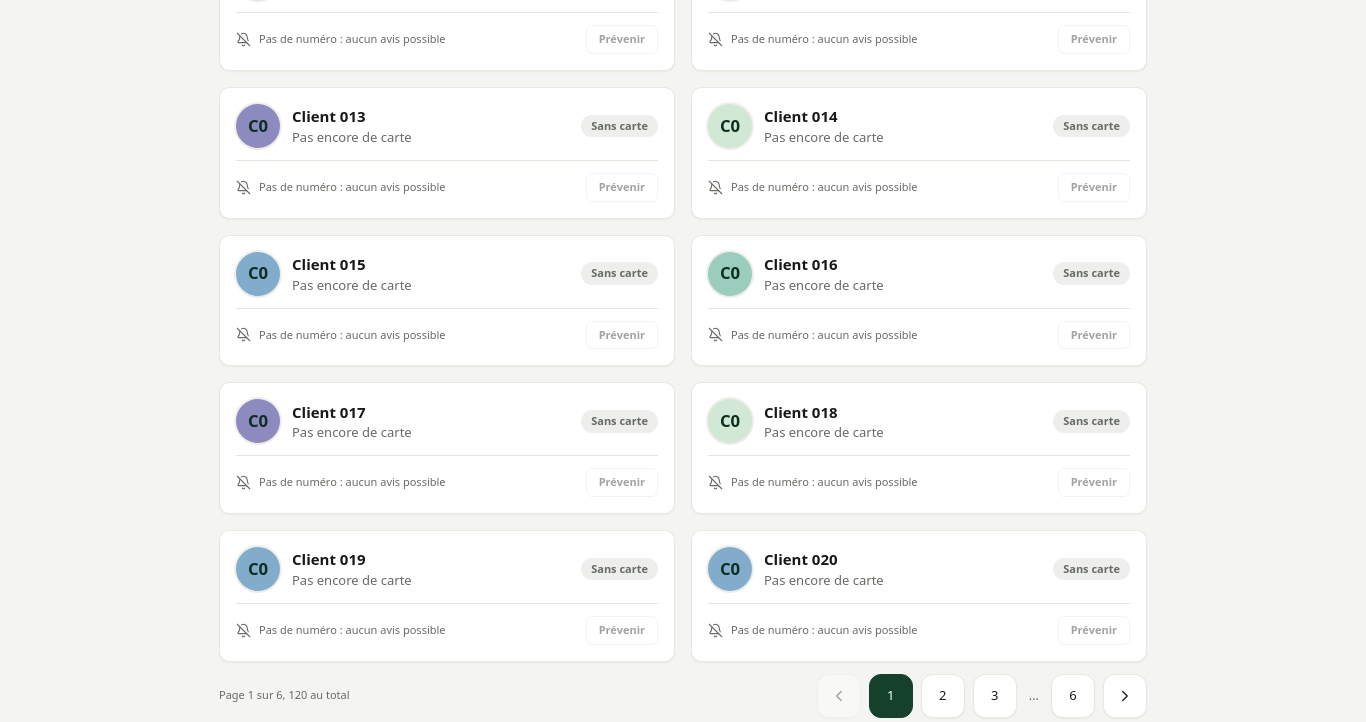
Test: pagination de la liste › revient a la premiere page quand la recherche change
The width and height of the screenshot is (1366, 722).
(page scrolled)
Click the button named "page suivante" at (1125, 696), box x1=1103 y1=674 x2=1147 y2=718
(page scrolled)
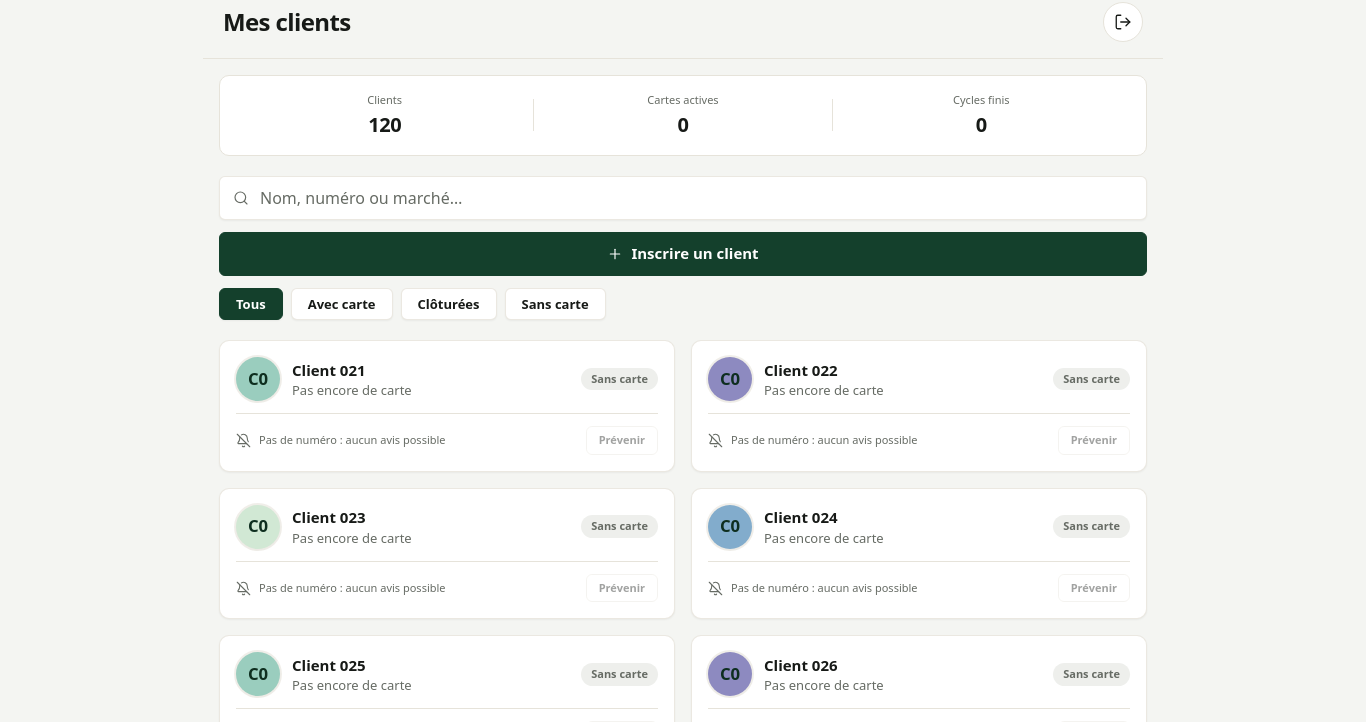
Type "Client" into the field named "Rechercher un client" at (683, 198), box x1=219 y1=176 x2=1147 y2=220
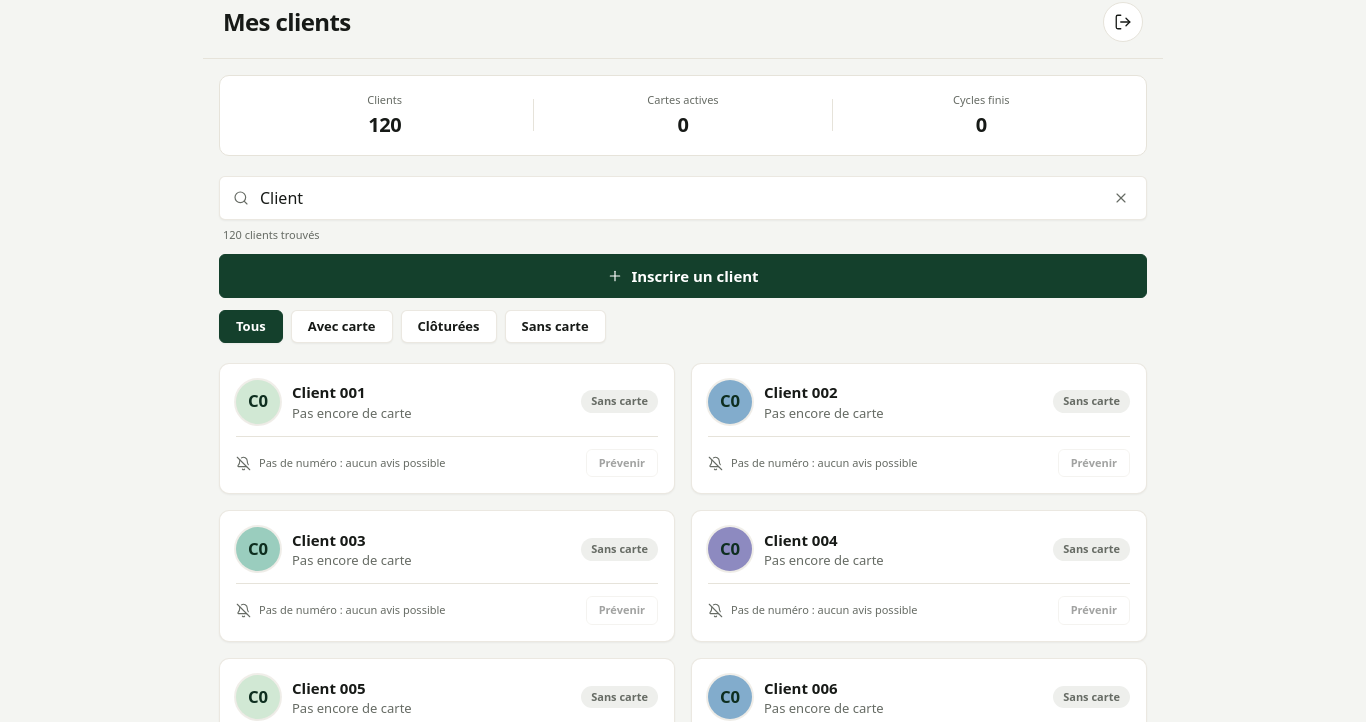
Result: the text "Client 001" is shown at x1=292 y1=382 x2=366 y2=402
